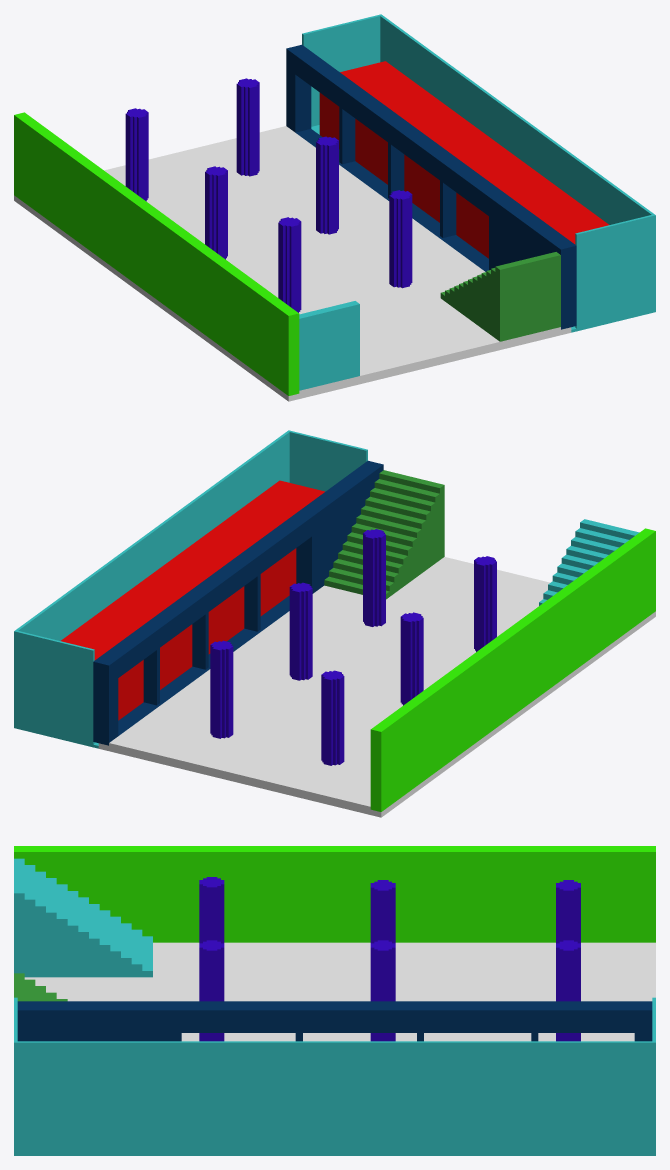
File: subway 2.obj
3 renders of one model, top to bottom at view 1: azimuth 30°, elevation 25°; view 2: azimuth 150°, elevation 25°; view 3: azimuth 270°, elevation 25°, orthographic. The views are drawn at different scales.
Size of the model in its own units: 13.9 by 3.5 by 18.
Materials: 1 (1 with a texture image).
